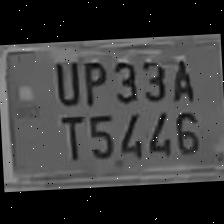3: (106, 52, 140, 104), (136, 54, 165, 102)
4: (112, 102, 144, 160), (142, 102, 170, 159)
5: (82, 107, 116, 162)
6: (168, 104, 202, 158)
A: (166, 53, 196, 102)
P: (77, 52, 107, 106)
T: (52, 106, 86, 164)
U: (46, 52, 82, 107)
